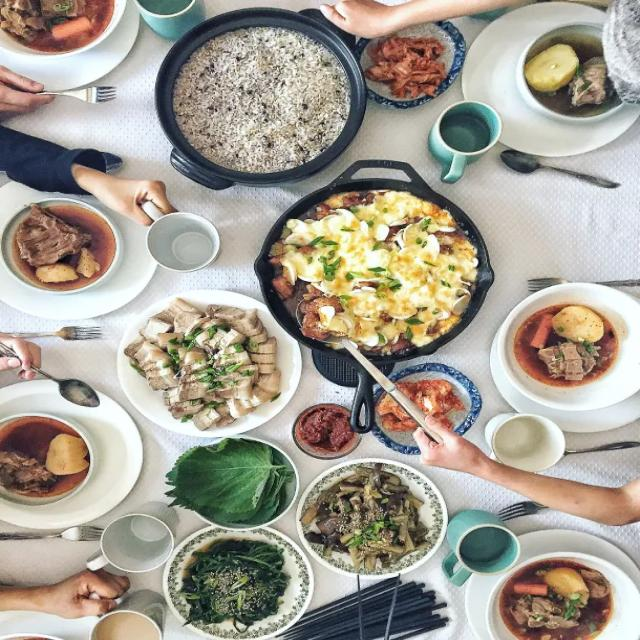canh: (0, 195, 131, 531)
do nuong: (269, 200, 466, 347), (141, 305, 265, 422)
rau thap cam: (170, 442, 433, 624)
